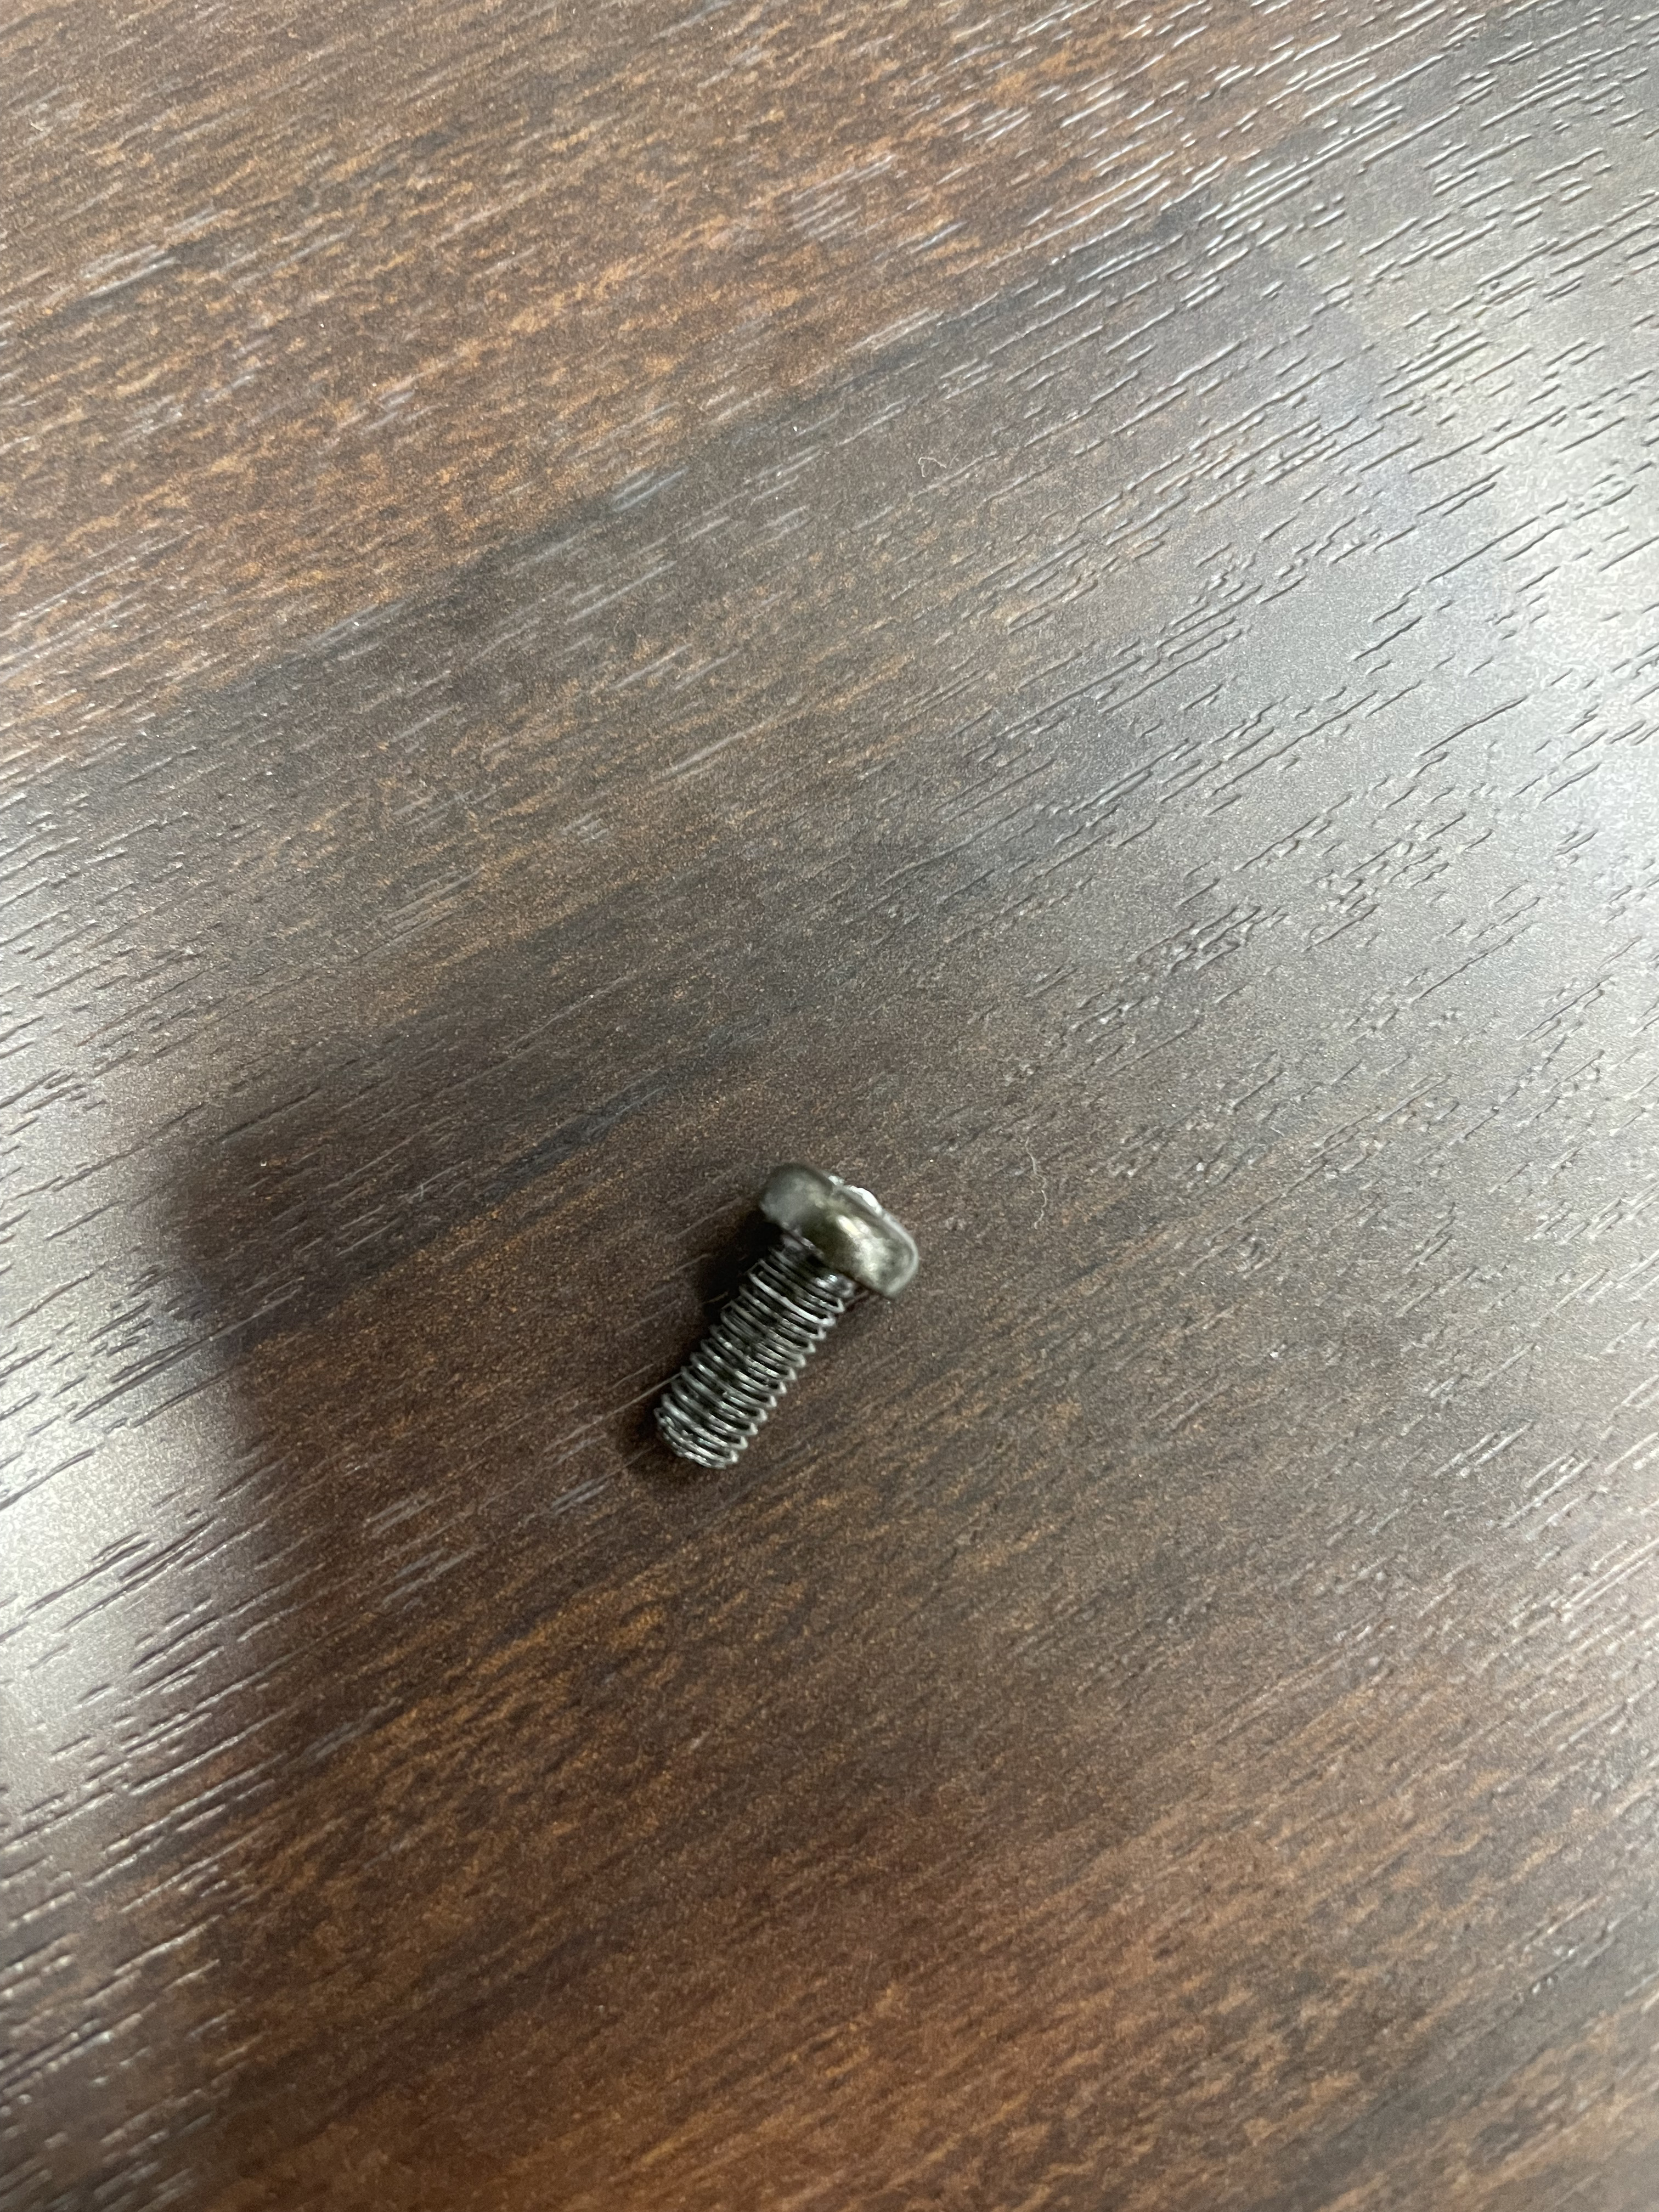screw2: (647, 1159, 918, 1475)
